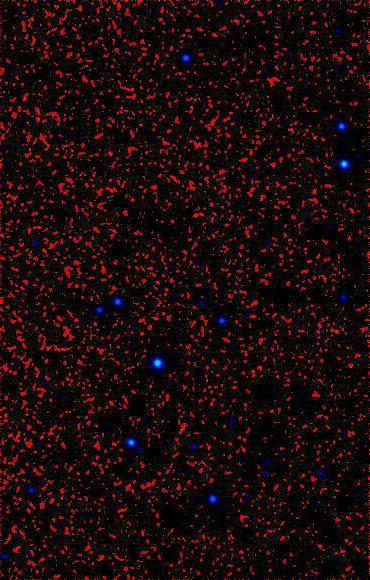star: (332, 148, 362, 178)
